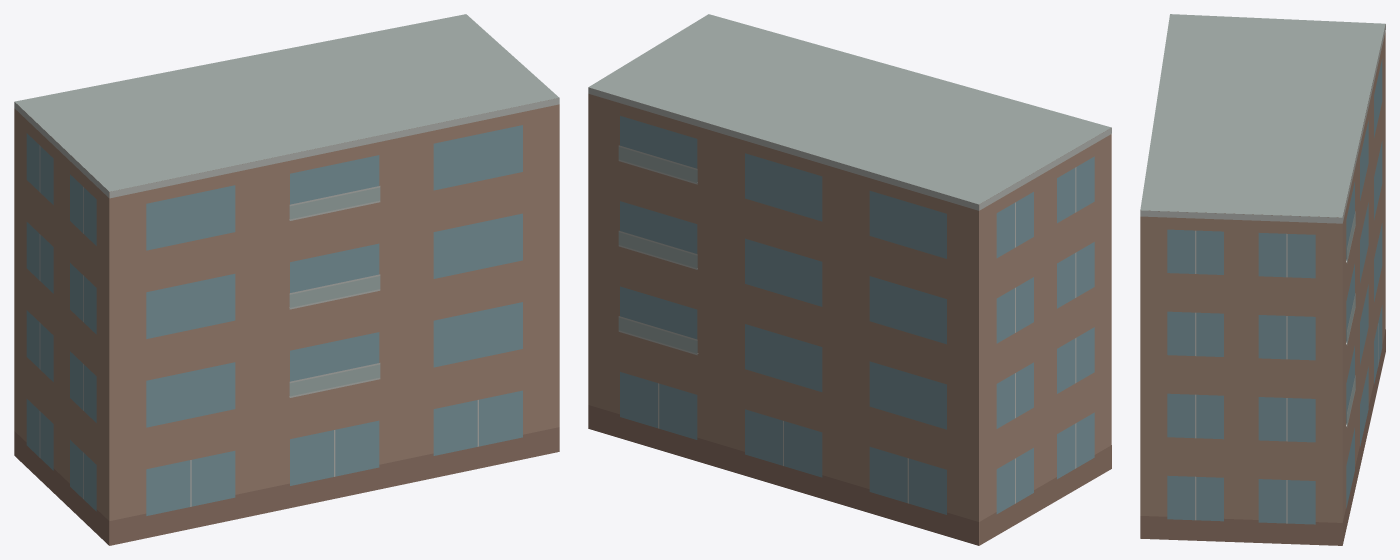
File: survey-upis-32576018.glb
3 renders of one model, left to right at view 1: azimuth 30°, elevation 25°; view 2: azimuth 150°, elevation 25°; view 3: azimuth 270°, elevation 25°, orthographic. The views are drawn at different scales.
Parts seen in each view (by area): view 1: survey-upis-32576018.tmp; view 2: survey-upis-32576018.tmp; view 3: survey-upis-32576018.tmp.
Boxes of the visible parts, x1,y1,x2,y2 form: survey-upis-32576018.tmp: (14, 14, 559, 545); survey-upis-32576018.tmp: (588, 14, 1111, 545); survey-upis-32576018.tmp: (1140, 14, 1385, 545).
Size of the model in its own units: 17.43 by 13.1 by 8.89.
